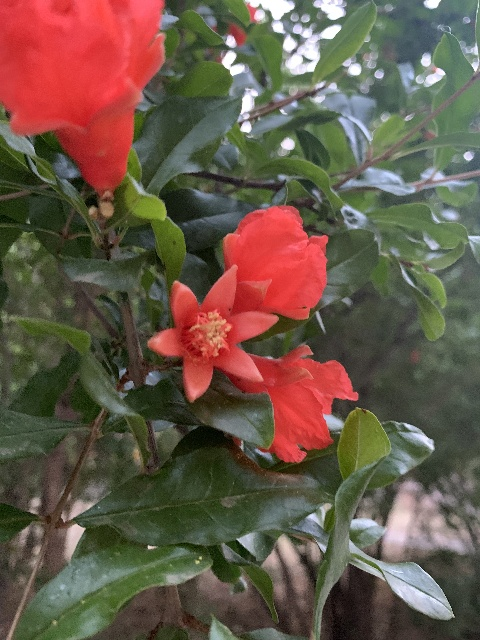flower: (0, 0, 167, 197), (147, 266, 277, 401), (219, 343, 357, 462), (222, 204, 327, 321)
